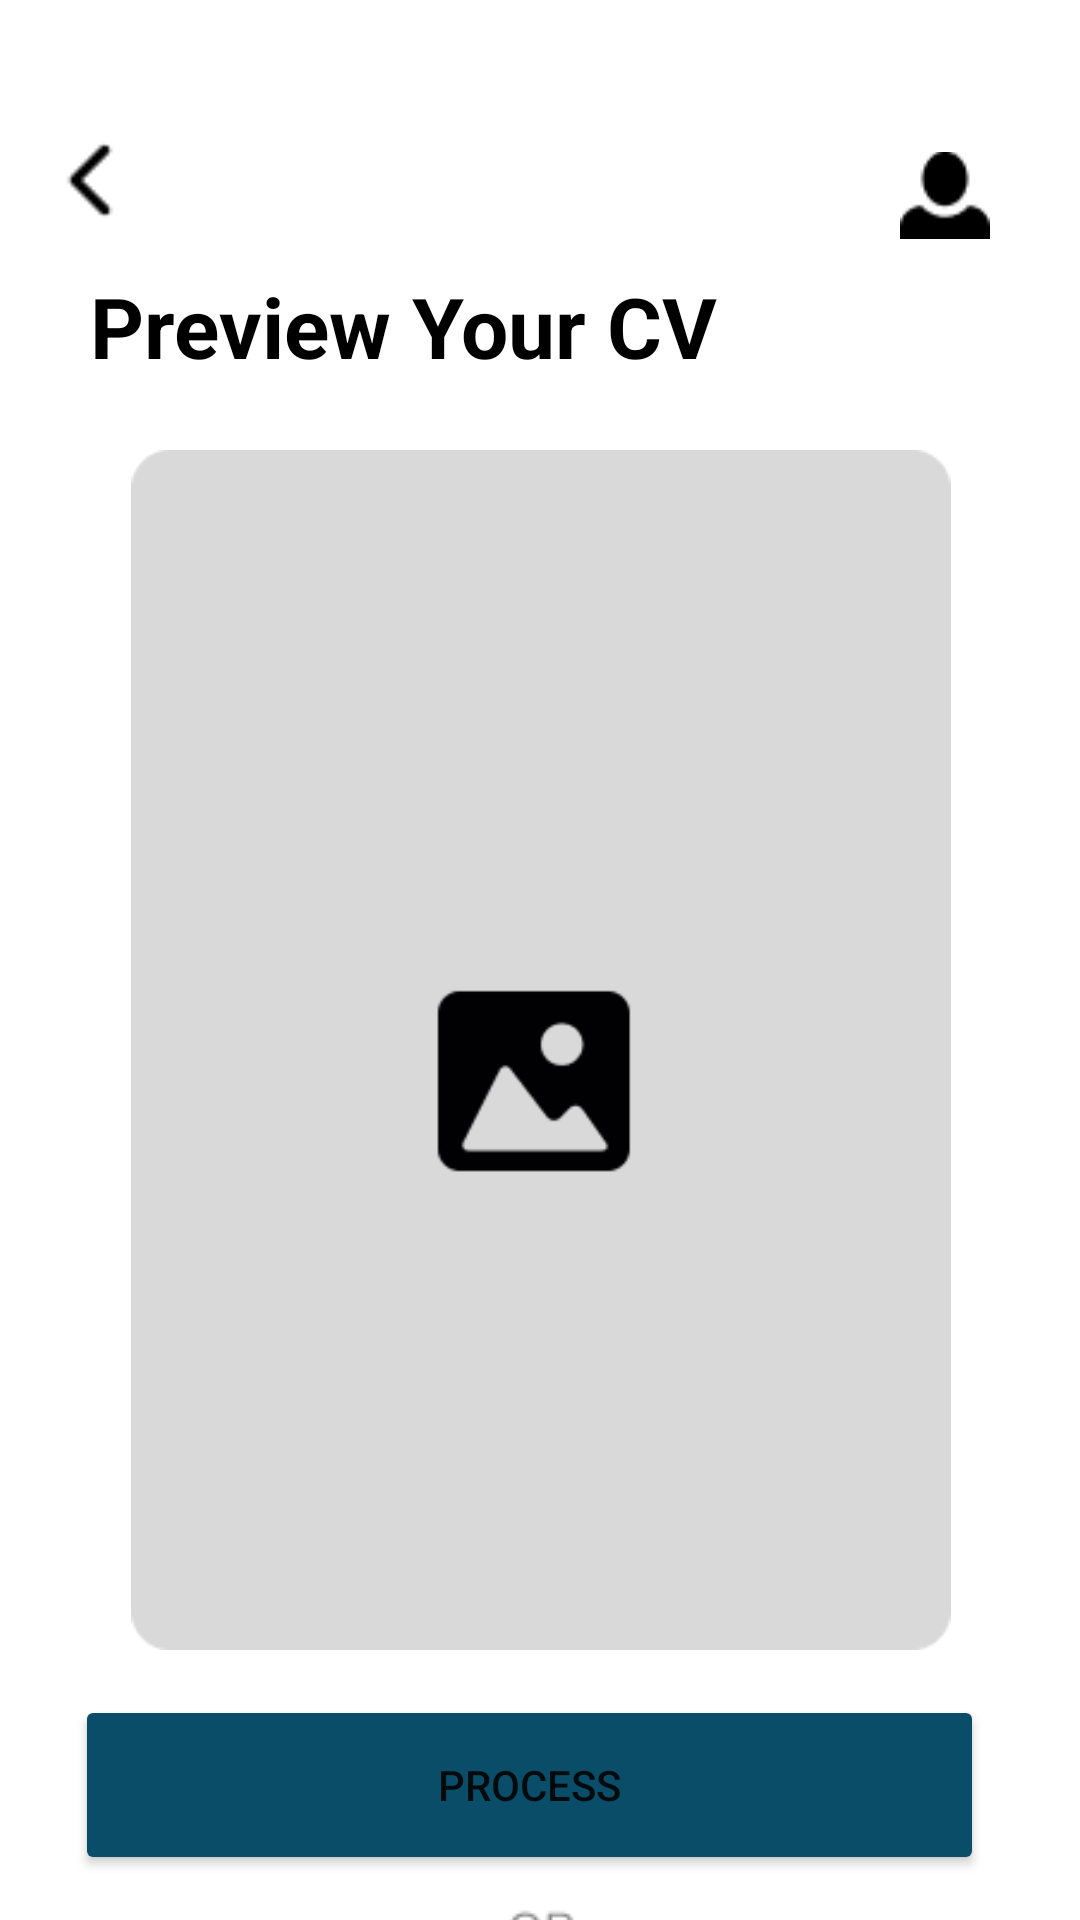

Icon bounding boxes for this 1080×1920 phone screenshot, format (x1, y1, x2, y2):
back: (68, 144, 112, 216)
person: (900, 152, 990, 239)
